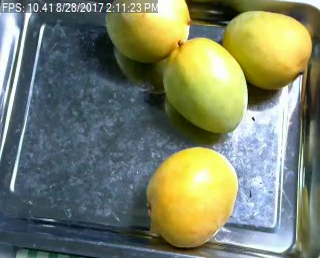Mango: (143, 146, 237, 249), (165, 36, 247, 132), (223, 10, 312, 90), (106, 0, 189, 62)
